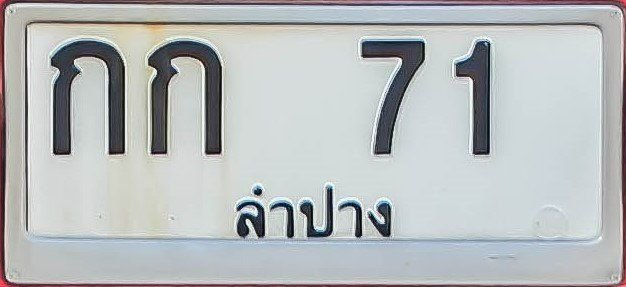txt01: (44, 35, 128, 158), (144, 36, 227, 159)
